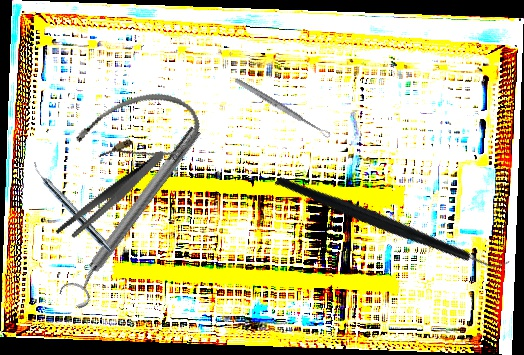Cannula: (69, 79, 207, 185)
Chopper: (273, 105, 514, 337)
Dressing Forceps: (42, 149, 181, 244)
Fixation Ring: (55, 120, 212, 312)
Handpiece: (27, 160, 116, 255)
Surgical Spoon: (233, 76, 332, 140)
